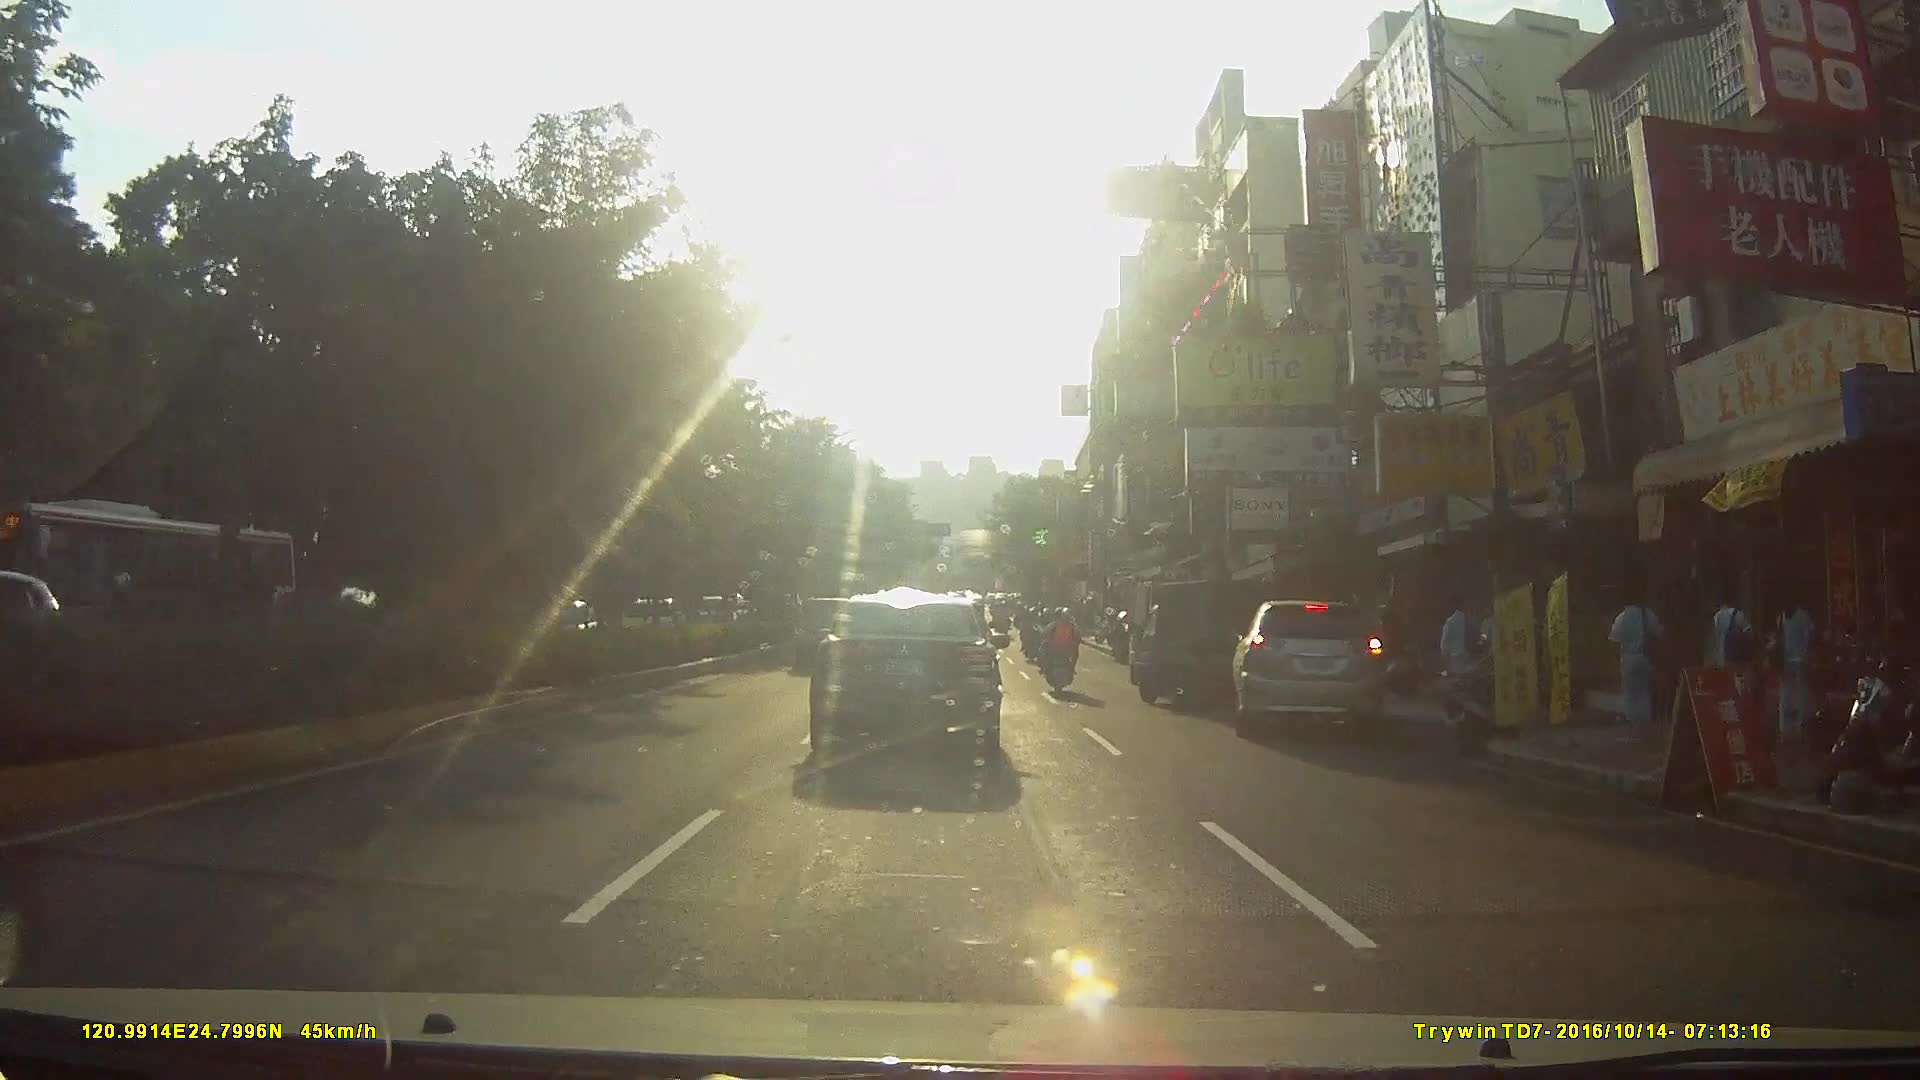pedestrian: (1771, 583, 1825, 752), (1614, 584, 1665, 741), (1712, 585, 1758, 758), (1438, 593, 1487, 718)
rider: (1039, 599, 1081, 694), (1021, 605, 1045, 662)
vehicle: (1, 496, 308, 665), (808, 593, 1029, 778), (1226, 589, 1412, 753), (1117, 568, 1253, 720)
